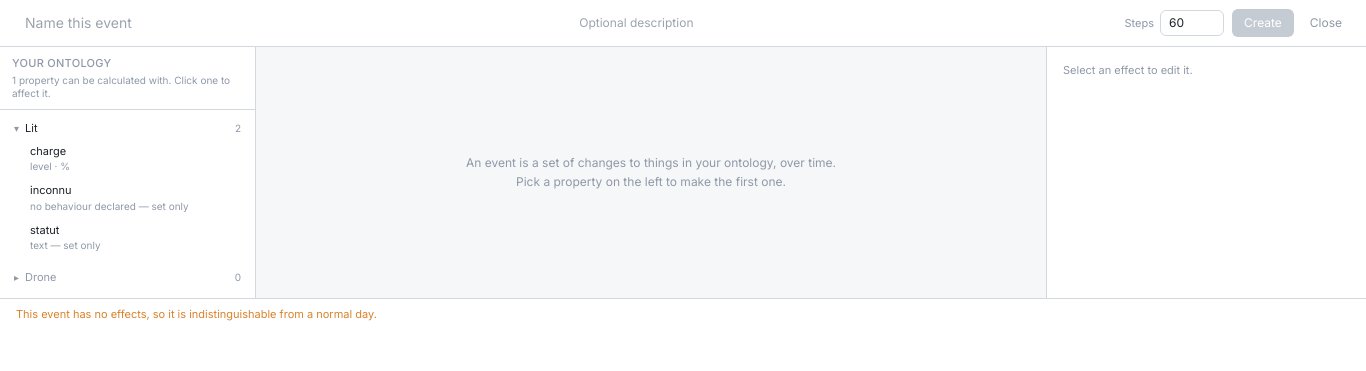
Test: the ontology rail › offers nothing on a type no instance exists for
The width and height of the screenshot is (1366, 371).
Step 1. Click the button with aria-label "Drone, 0 instances" → (128, 277), box [6,265,249,290]
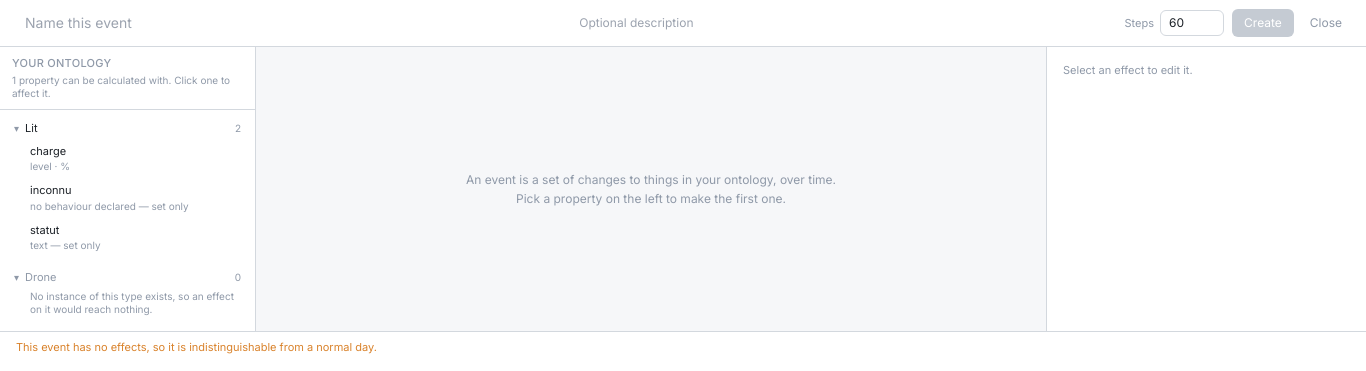
Check: the text "would reach nothing" is shown, box [30,290,234,315]
